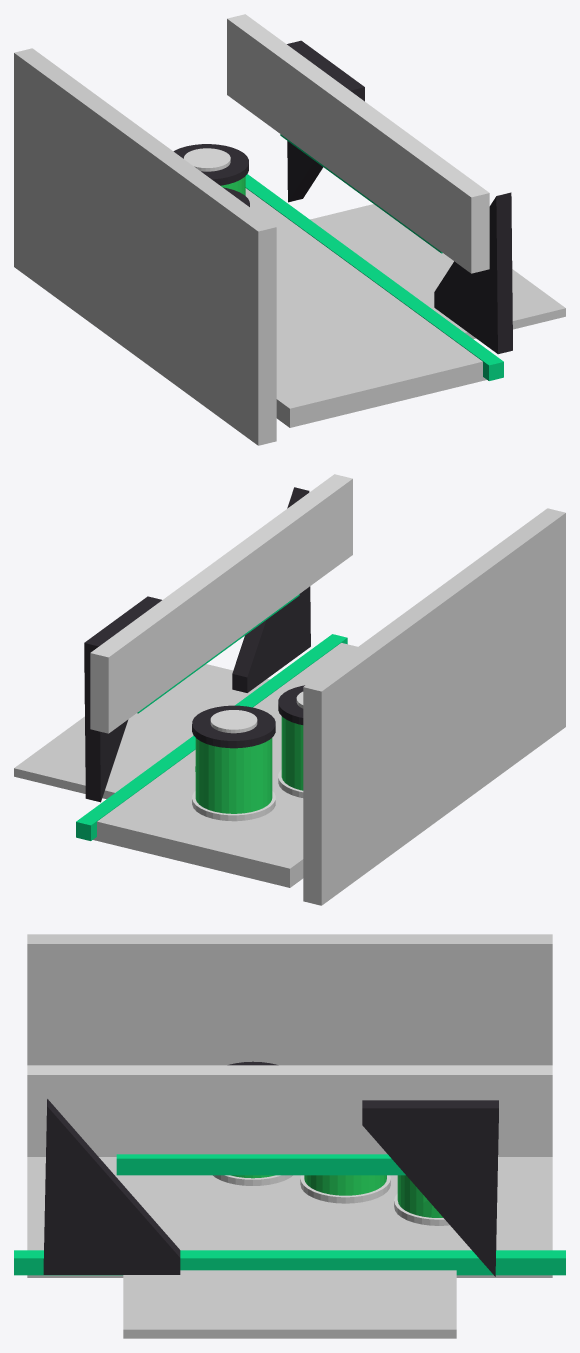
Rendered from Alien_BG.fbx.
The picture shows the model from 3 angles, top to bottom: view 1: azimuth 30°, elevation 25°; view 2: azimuth 150°, elevation 25°; view 3: azimuth 270°, elevation 25°; orthographic projection. The views are drawn at different scales.
Visible parts, largest first — view 1: Cube.005, Cube.003, Cube.007, Cube, Cube.004, Cube.002, Cube.006, Cylinder.006, Cylinder.004; view 2: Cube.005, Cube.007, Cube.003, Cube, Cylinder.007, Cube.004, Cube.002, Cube.006, Cylinder.006, Cylinder, Cylinder.004, Cylinder.005 (+1 smaller); view 3: Cube.005, Cube.007, Cube.003, Cube, Cube.006, Cube.004, Cube.002, Cube.001, Cylinder, Cylinder.007, Cylinder.002, Cylinder.010 (+1 smaller).
Part boxes in pixels (box(x1,y1,x2,y2)): Cube.005: box(14, 48, 276, 445); Cube.003: box(245, 188, 486, 427); Cube.007: box(227, 14, 489, 273); Cube: box(310, 204, 565, 338); Cube.004: box(434, 192, 512, 354); Cube.002: box(245, 174, 503, 380); Cube.006: box(287, 40, 364, 202); Cylinder.006: box(173, 144, 248, 185); Cylinder.004: box(183, 148, 230, 171); Cube.005: box(303, 508, 565, 905); Cube.007: box(90, 474, 352, 733); Cube.003: box(93, 643, 357, 887); Cube: box(14, 664, 269, 798); Cylinder.007: box(195, 738, 272, 813); Cube.004: box(232, 487, 310, 692); Cube.002: box(76, 634, 347, 840); Cube.006: box(84, 596, 161, 802); Cylinder.006: box(192, 705, 275, 748); Cylinder: box(281, 716, 303, 790); Cylinder.004: box(210, 710, 257, 733); Cylinder.005: box(192, 791, 275, 821); Cube.005: box(27, 934, 552, 1065); Cube.007: box(27, 1065, 552, 1156); Cube.003: box(27, 1157, 552, 1277); Cube: box(123, 1270, 456, 1338); Cube.006: box(362, 1100, 498, 1276); Cube.004: box(43, 1099, 180, 1274); Cube.002: box(14, 1250, 565, 1275); Cube.001: box(116, 1154, 405, 1175); Cylinder: box(304, 1175, 386, 1195); Cylinder.007: box(397, 1175, 443, 1217); Cylinder.002: box(300, 1175, 390, 1203); Cylinder.010: box(213, 1175, 292, 1185).
Size of the model in its own units: 46.78 by 59 by 27.18.
